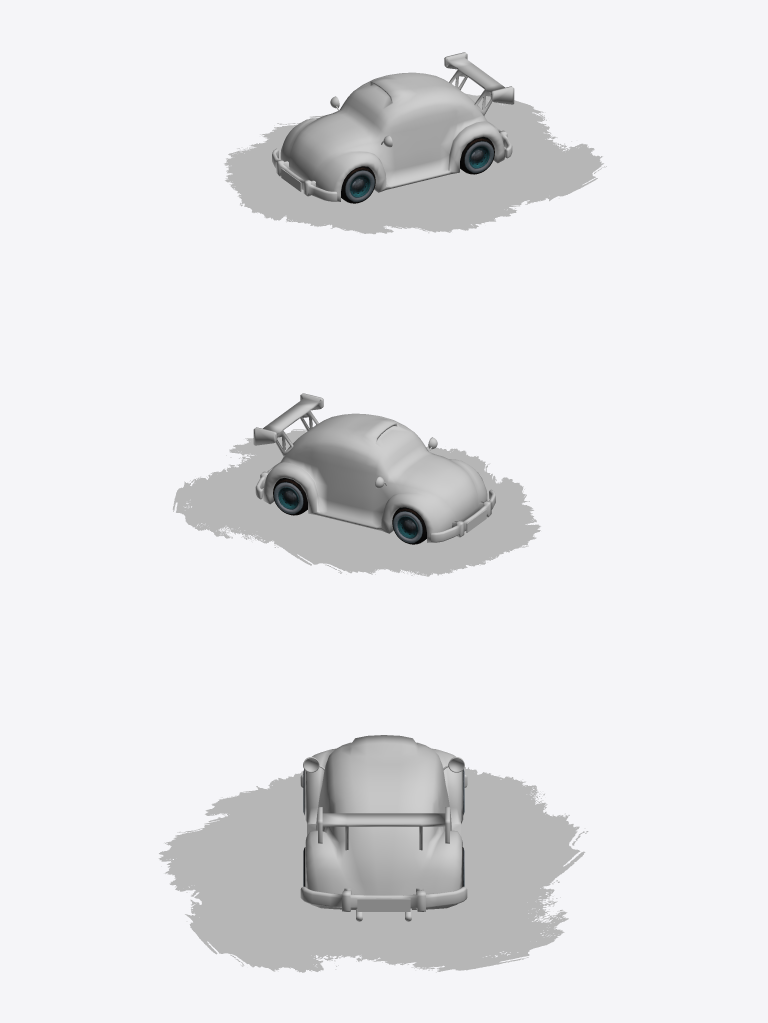
File: coche.fbx
3 renders of one model, top to bottom at view 1: azimuth 30°, elevation 25°; view 2: azimuth 150°, elevation 25°; view 3: azimuth 270°, elevation 25°, orthographic. The views are drawn at different scales.
Parts seen in each view (by area): view 1: Plane.007; view 2: Plane.007; view 3: Plane.007.
Boxes of the visible parts, <box> form: Plane.007: <box>224,52,606,234</box>; Plane.007: <box>172,393,540,576</box>; Plane.007: <box>158,735,588,972</box>.
Size of the model in its own units: 1586 by 274 by 1586.
